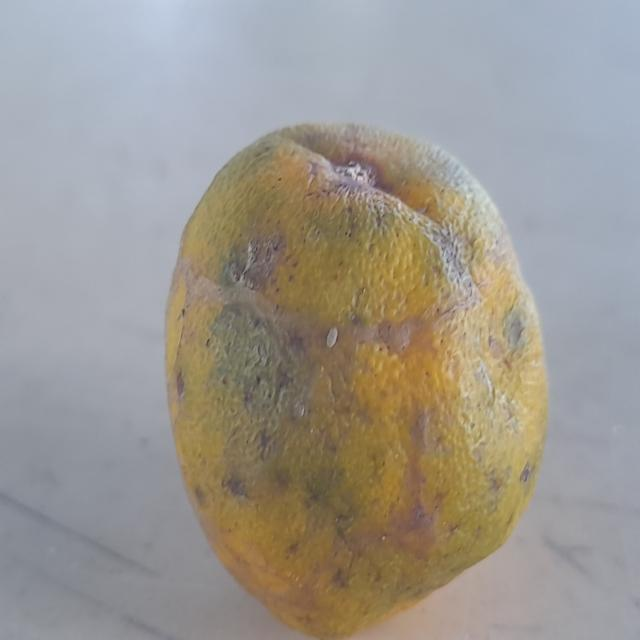black spot: (153, 122, 549, 621)
